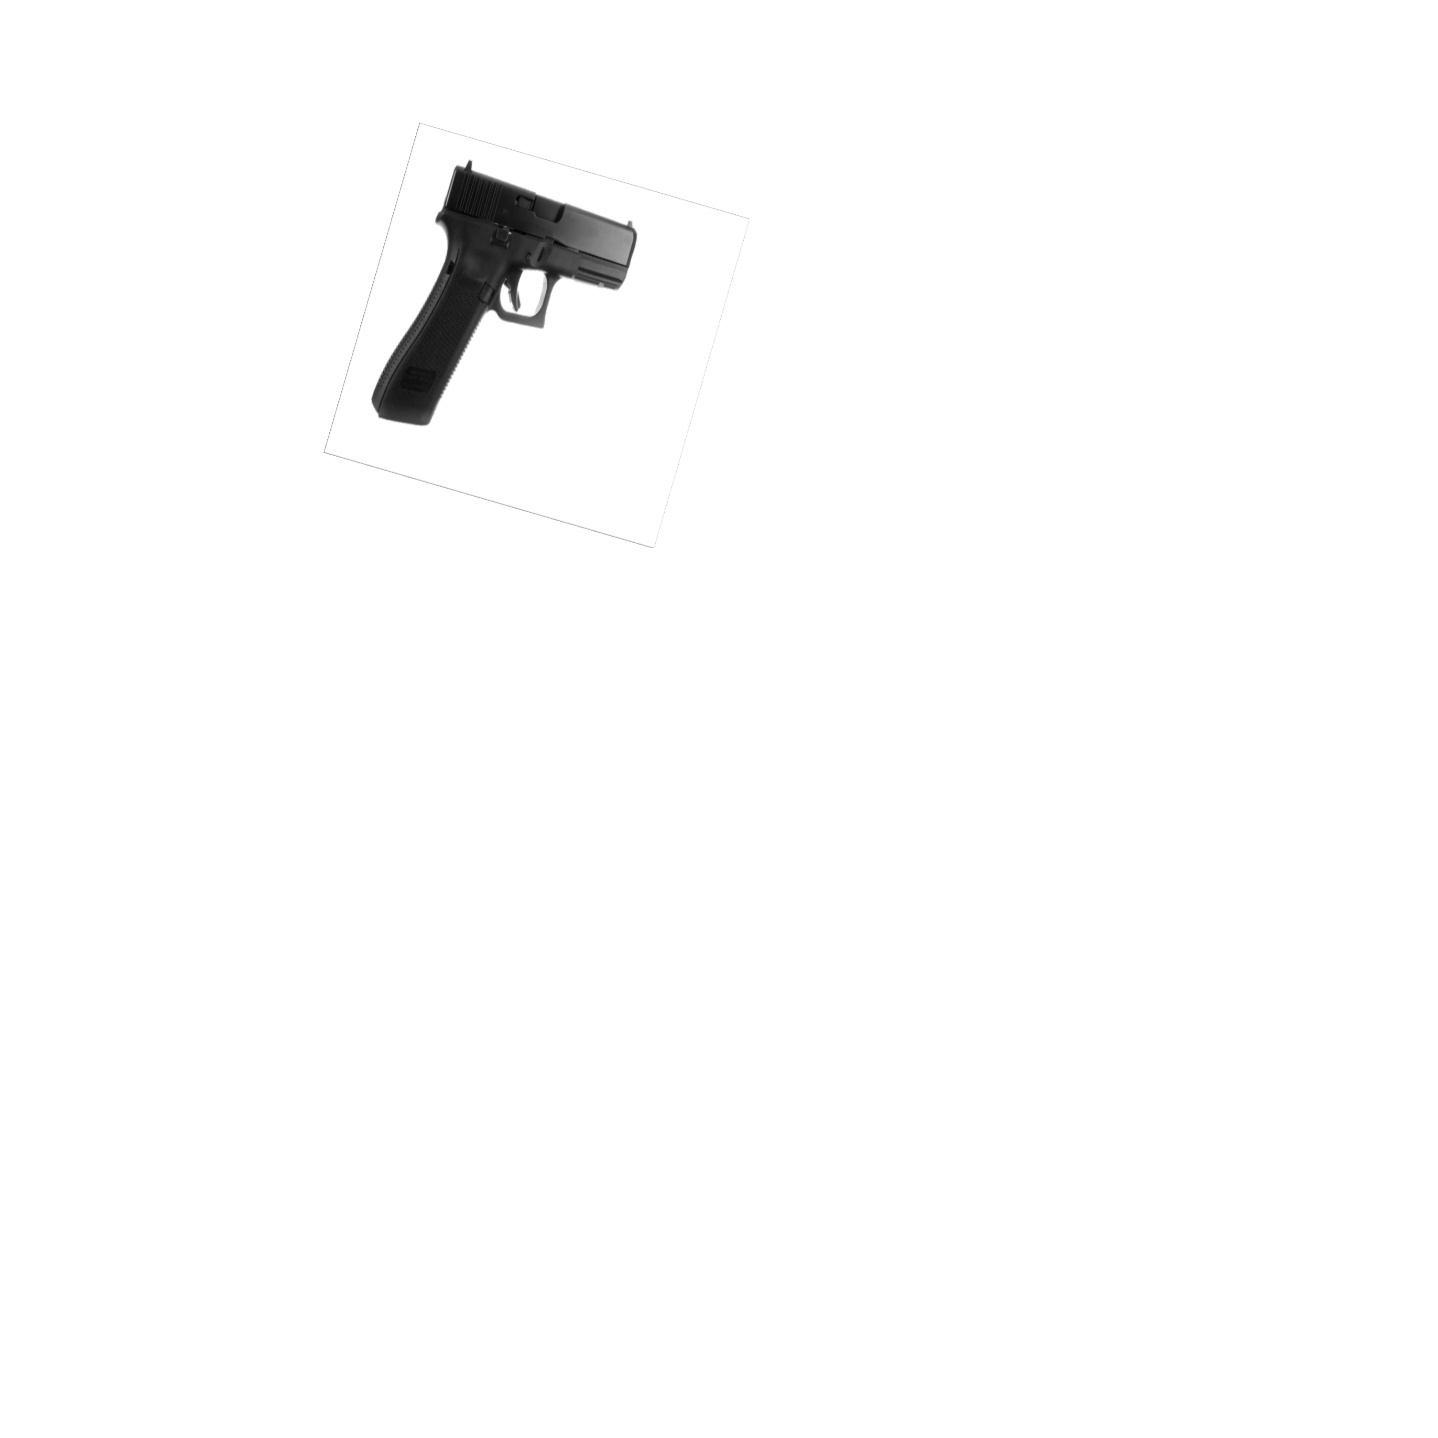gun: (366, 158, 637, 429)
